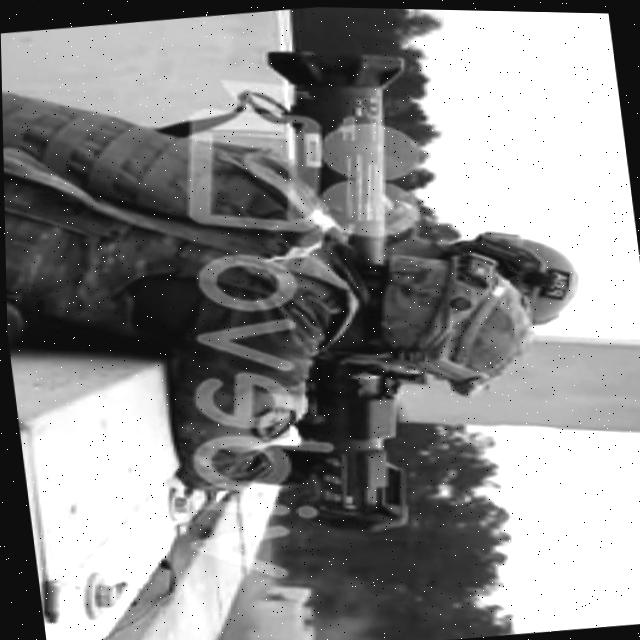rocket: (184, 22, 485, 542)
